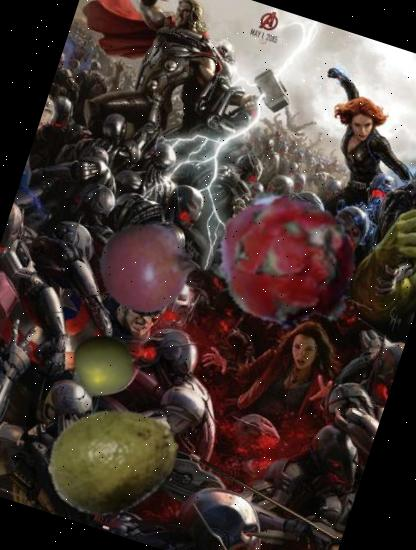Apple: (60, 324, 142, 406)
Guava: (30, 378, 198, 546)
Pitahaya: (189, 165, 375, 351)
Pomegranate: (86, 204, 210, 329)
